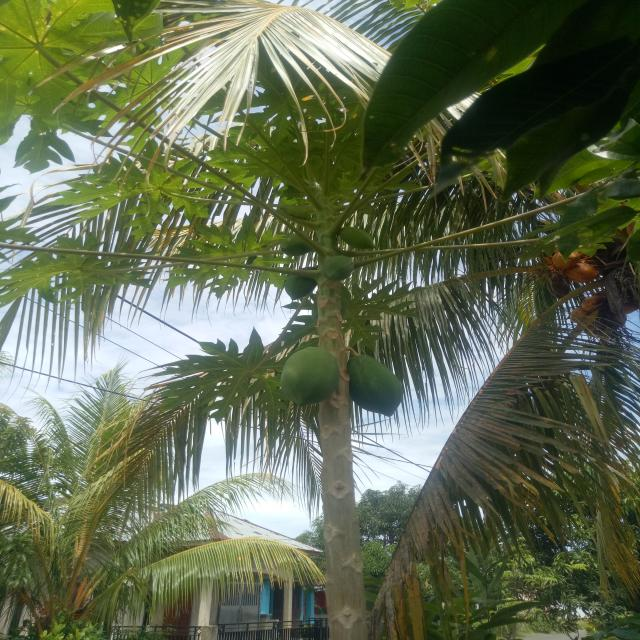Pepaya unrippen: (278, 339, 338, 404), (350, 352, 403, 423)
